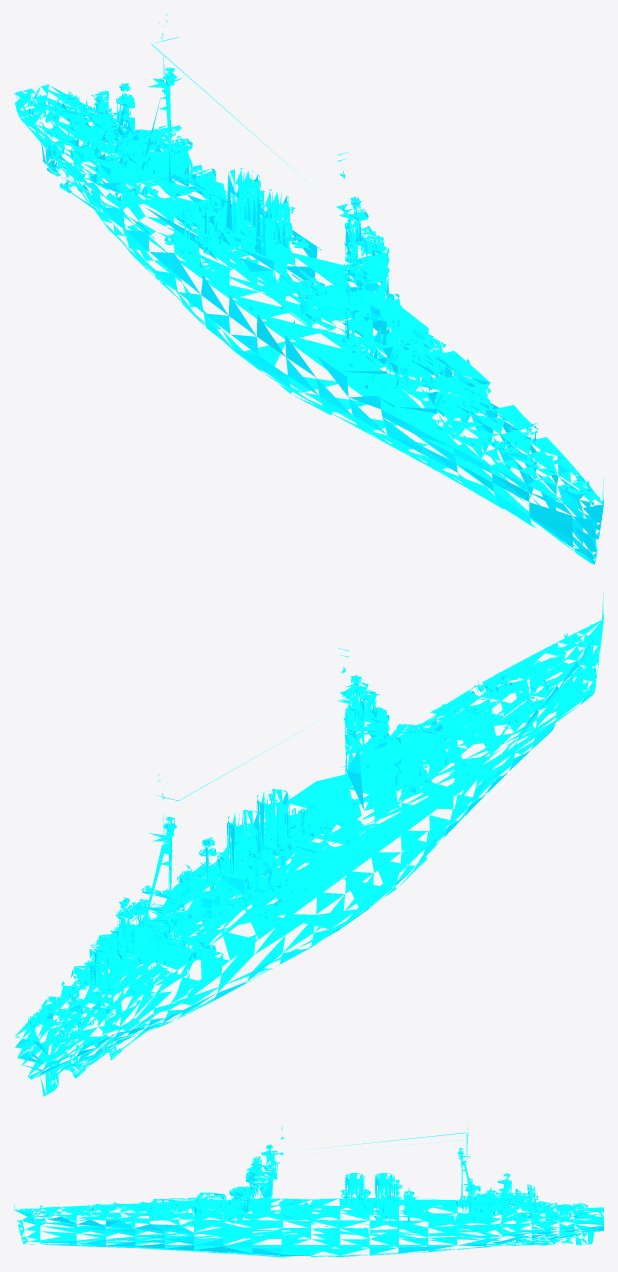
Rendered from PBSB210.glb.
The picture shows the model from 3 angles, top to bottom: view 1: azimuth 30°, elevation 25°; view 2: azimuth 150°, elevation 25°; view 3: azimuth 270°, elevation 25°; orthographic projection. The views are drawn at different scales.
Visible parts, largest first — view 1: hull_mid, hull_bow, main_battery, hull_stern, secondary_battery, aa_mount, hull_body; view 2: hull_mid, hull_bow, hull_stern, main_battery, secondary_battery, aa_mount, hull_body; view 3: hull_mid, hull_bow, hull_stern, main_battery, secondary_battery, aa_mount, hull_body.
Boxes of the visible parts, bbox=[...] form: hull_mid: bbox=[65, 35, 498, 469]; hull_bow: bbox=[413, 405, 603, 564]; main_battery: bbox=[282, 271, 507, 425]; hull_stern: bbox=[14, 84, 148, 210]; secondary_battery: bbox=[68, 113, 434, 365]; aa_mount: bbox=[33, 91, 537, 446]; hull_body: bbox=[91, 83, 383, 255]; hull_mid: bbox=[62, 667, 520, 1054]; hull_bow: bbox=[427, 593, 603, 796]; hull_stern: bbox=[14, 978, 148, 1096]; main_battery: bbox=[290, 690, 507, 847]; secondary_battery: bbox=[69, 757, 438, 998]; aa_mount: bbox=[32, 680, 537, 1031]; hull_body: bbox=[90, 675, 384, 955]; hull_mid: bbox=[138, 1132, 538, 1257]; hull_bow: bbox=[14, 1202, 164, 1249]; hull_stern: bbox=[509, 1202, 603, 1245]; main_battery: bbox=[123, 1192, 335, 1216]; secondary_battery: bbox=[227, 1193, 551, 1226]; aa_mount: bbox=[104, 1186, 584, 1224]; hull_body: bbox=[252, 1144, 535, 1198].
Bounding box in the file's own units: 2.2 × 4.21 × 18.67.
